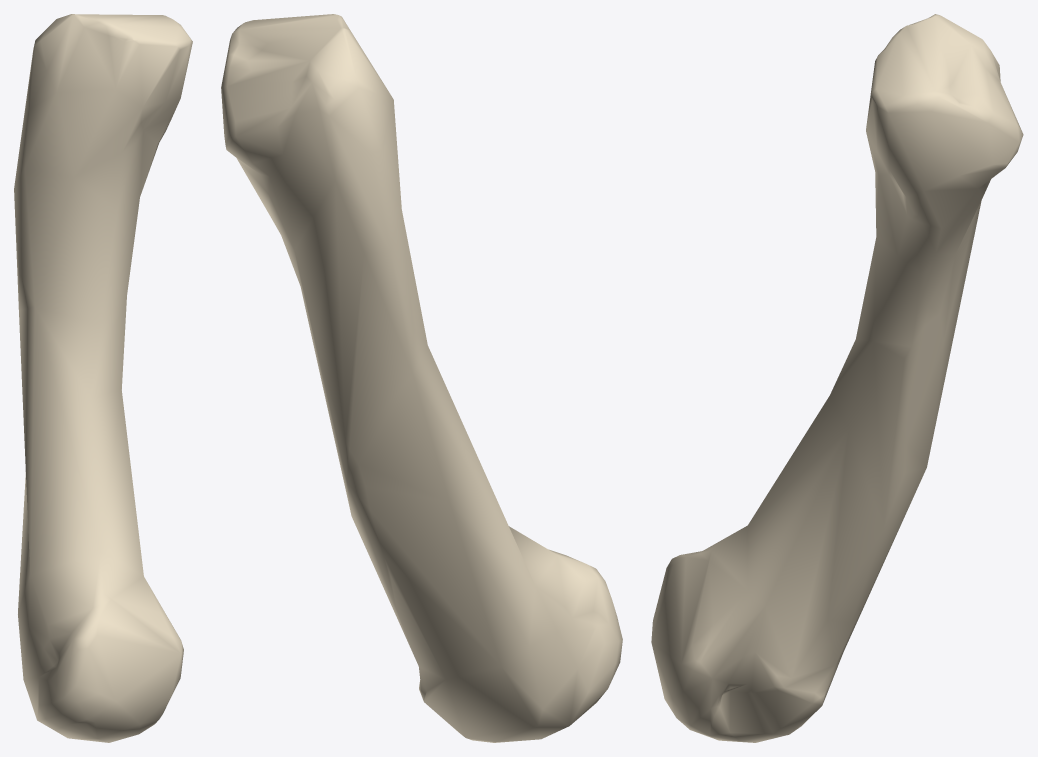
Rendered from fifth-metacarpal-bone-l.glb.
The picture shows the model from 3 angles, left to right: view 1: azimuth 30°, elevation 25°; view 2: azimuth 150°, elevation 25°; view 3: azimuth 270°, elevation 25°; orthographic projection. The views are drawn at different scales.
Visible parts, largest first — view 1: Fifth metacarpal bone.l; view 2: Fifth metacarpal bone.l; view 3: Fifth metacarpal bone.l.
Boxes of the visible parts, x1,y1,x2,y2 form: Fifth metacarpal bone.l: (14,14,192,742); Fifth metacarpal bone.l: (221,14,622,742); Fifth metacarpal bone.l: (651,14,1023,742).
Bounding box in the file's own units: 0.0209 × 0.057 × 0.0255.
